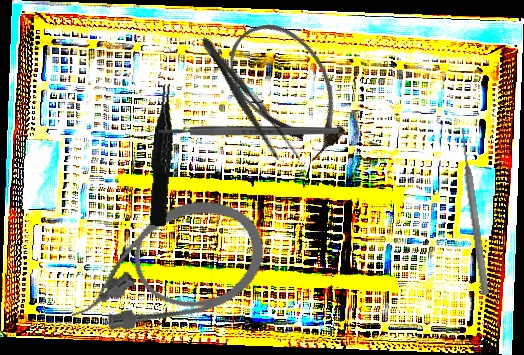Cannula: (49, 184, 279, 352), (210, 5, 367, 174)
Dressing Forceps: (193, 31, 304, 171)
Pusher: (456, 127, 492, 296)
Scalpel Handle: (158, 126, 339, 136)
Tissue Forceps: (143, 83, 183, 227)
